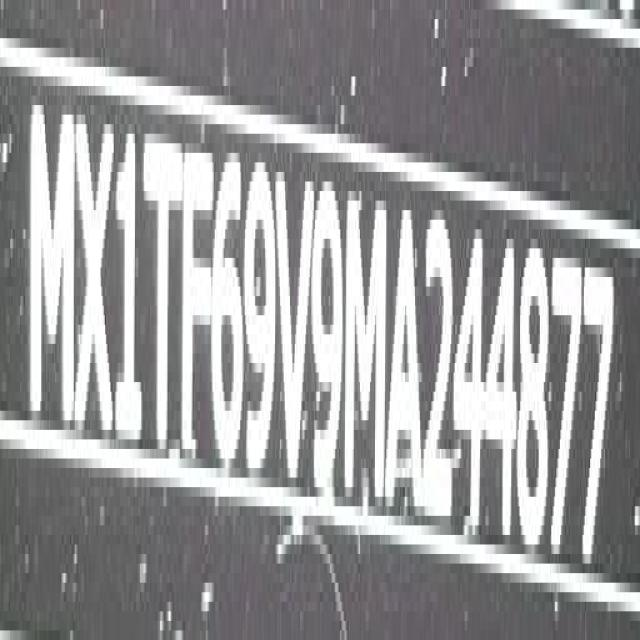1: (113, 106, 145, 460)
2: (423, 192, 463, 551)
4: (453, 198, 495, 556), (484, 208, 517, 556)
6: (211, 138, 247, 485)
7: (552, 229, 584, 584), (582, 255, 612, 591)
8: (516, 223, 554, 568)
9: (244, 140, 279, 502), (311, 152, 344, 513)
A: (384, 198, 422, 531)
F: (181, 138, 213, 485)
M: (23, 75, 74, 455), (344, 168, 389, 531)
T: (144, 115, 186, 478)
V: (274, 149, 312, 513)
X: (77, 102, 118, 468)
